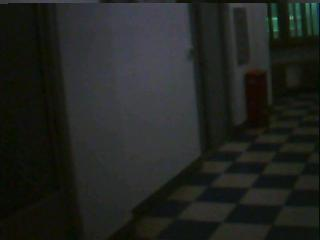oball: (249, 68, 257, 73)
